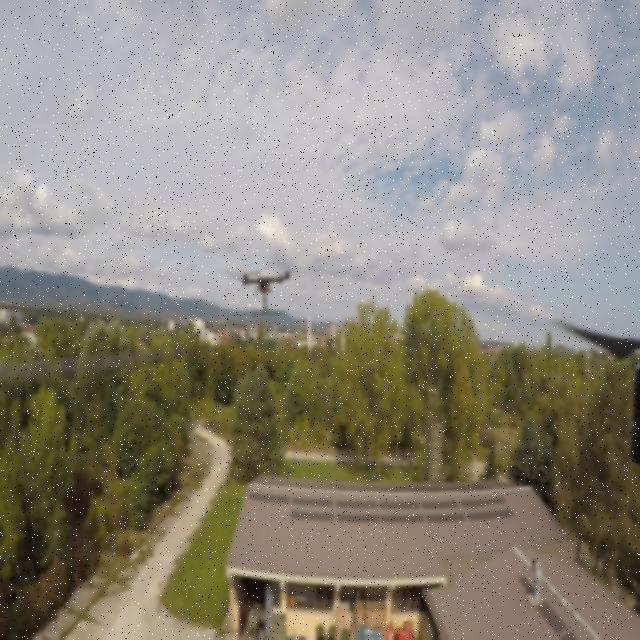UAV: (225, 263, 303, 314)
